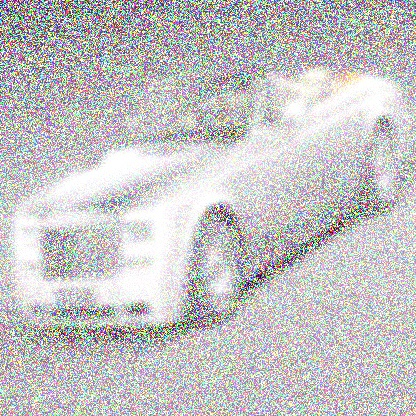Vehicle: (14, 68, 409, 327)
